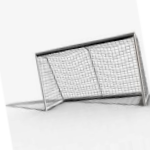goals: (33, 31, 150, 113)
